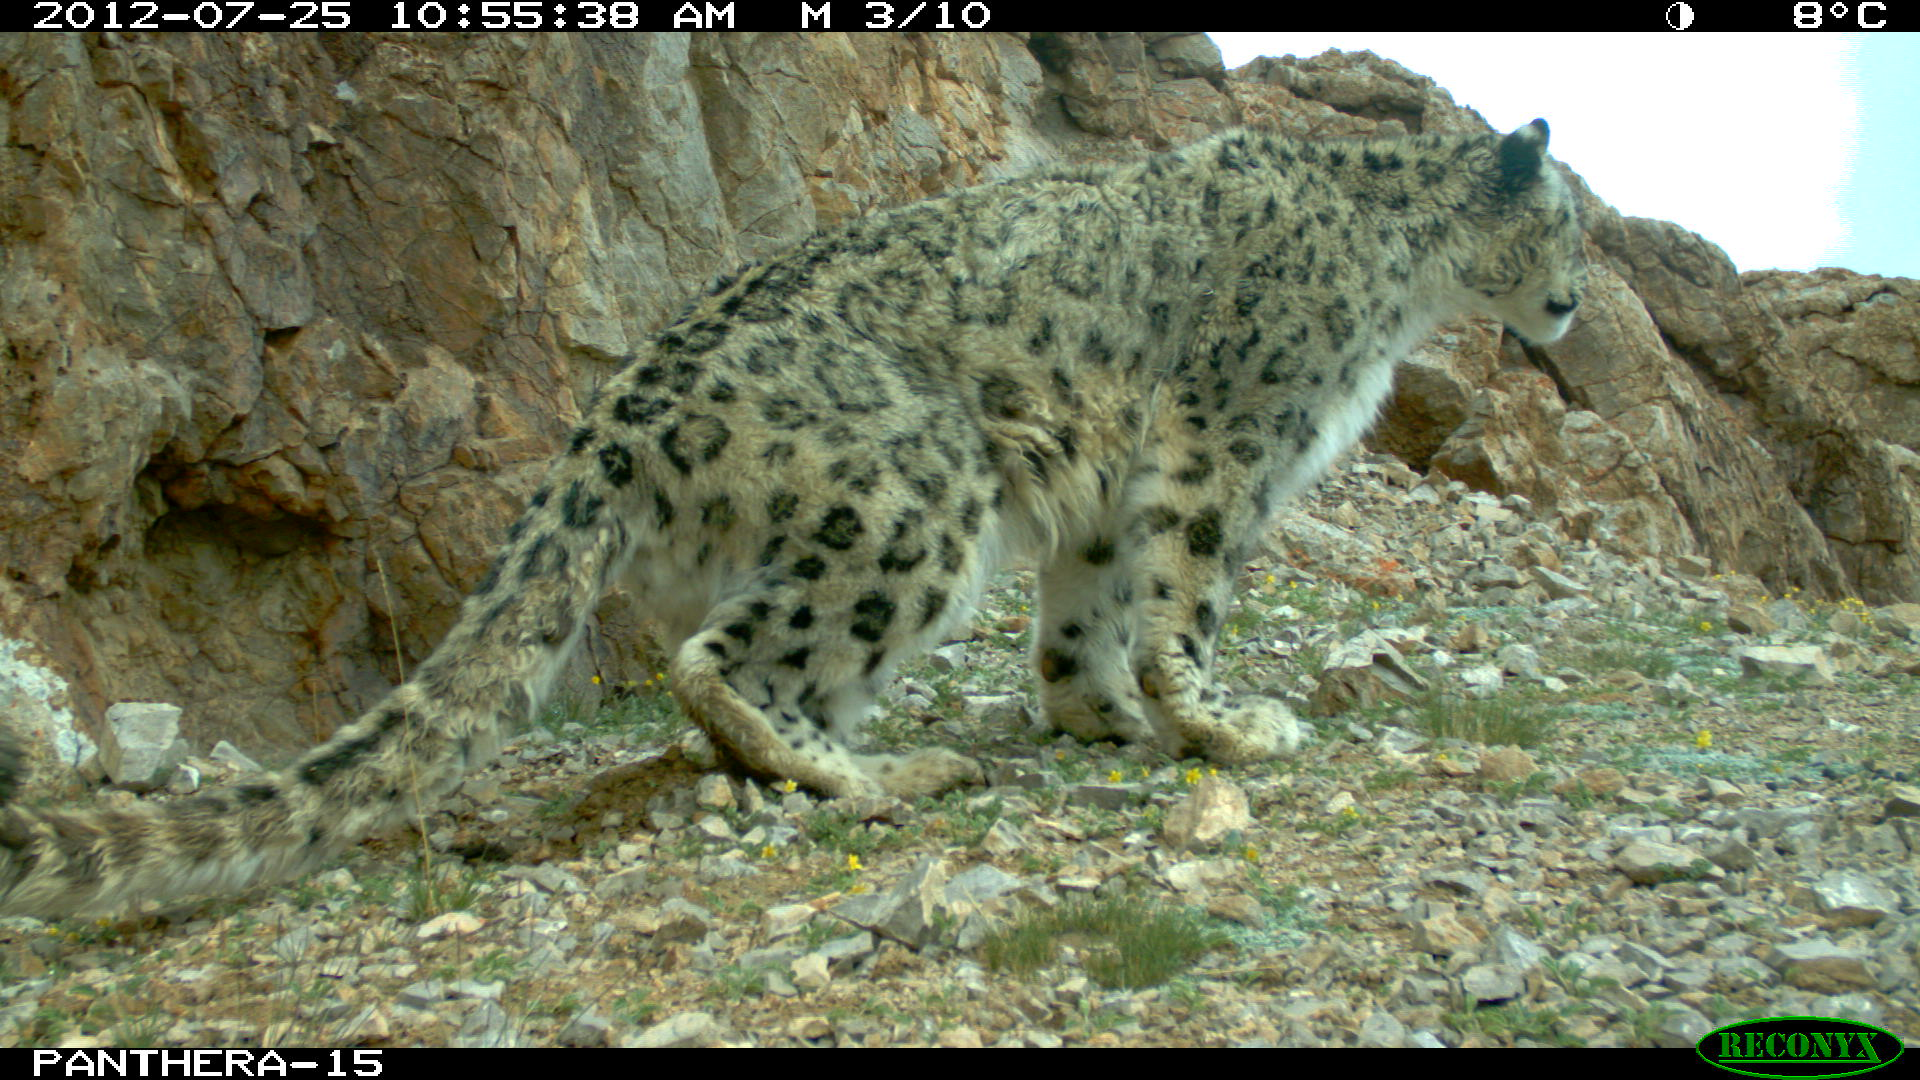Leopard: (1, 92, 1613, 952)
